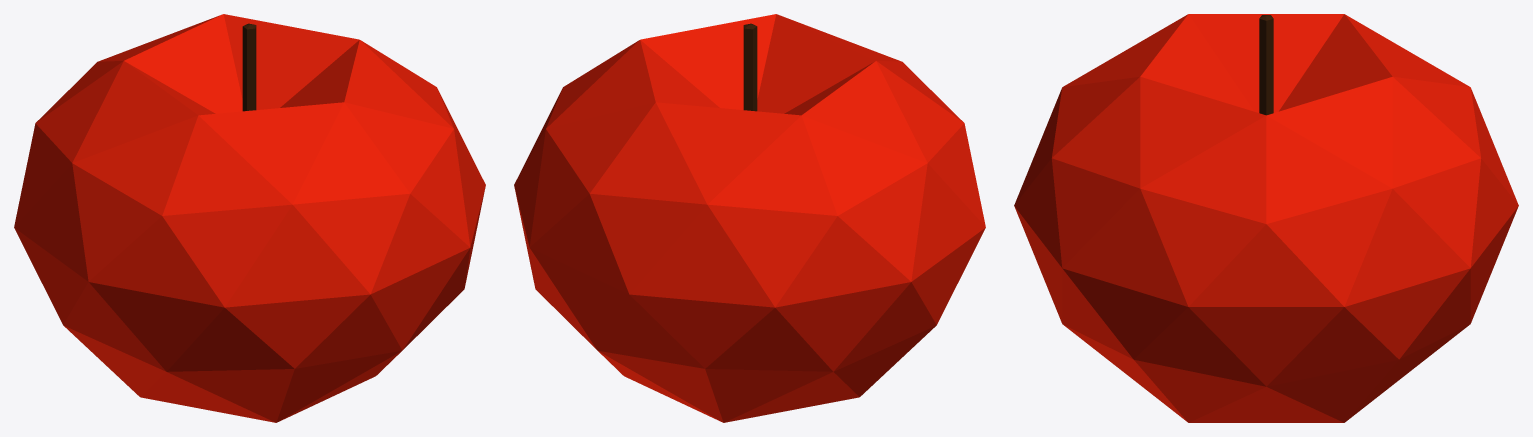
File: apple.glb
3 renders of one model, left to right at view 1: azimuth 30°, elevation 25°; view 2: azimuth 150°, elevation 25°; view 3: azimuth 270°, elevation 25°, orthographic. The views are drawn at different scales.
Visible parts, largest first — view 1: apple; view 2: apple; view 3: apple.
Boxes of the visible parts, x1,y1,x2,y2 form: apple: (14,14,485,422); apple: (514,14,985,422); apple: (1014,14,1518,422).
Size of the model in its own units: 0.759 by 0.6761 by 0.798.
